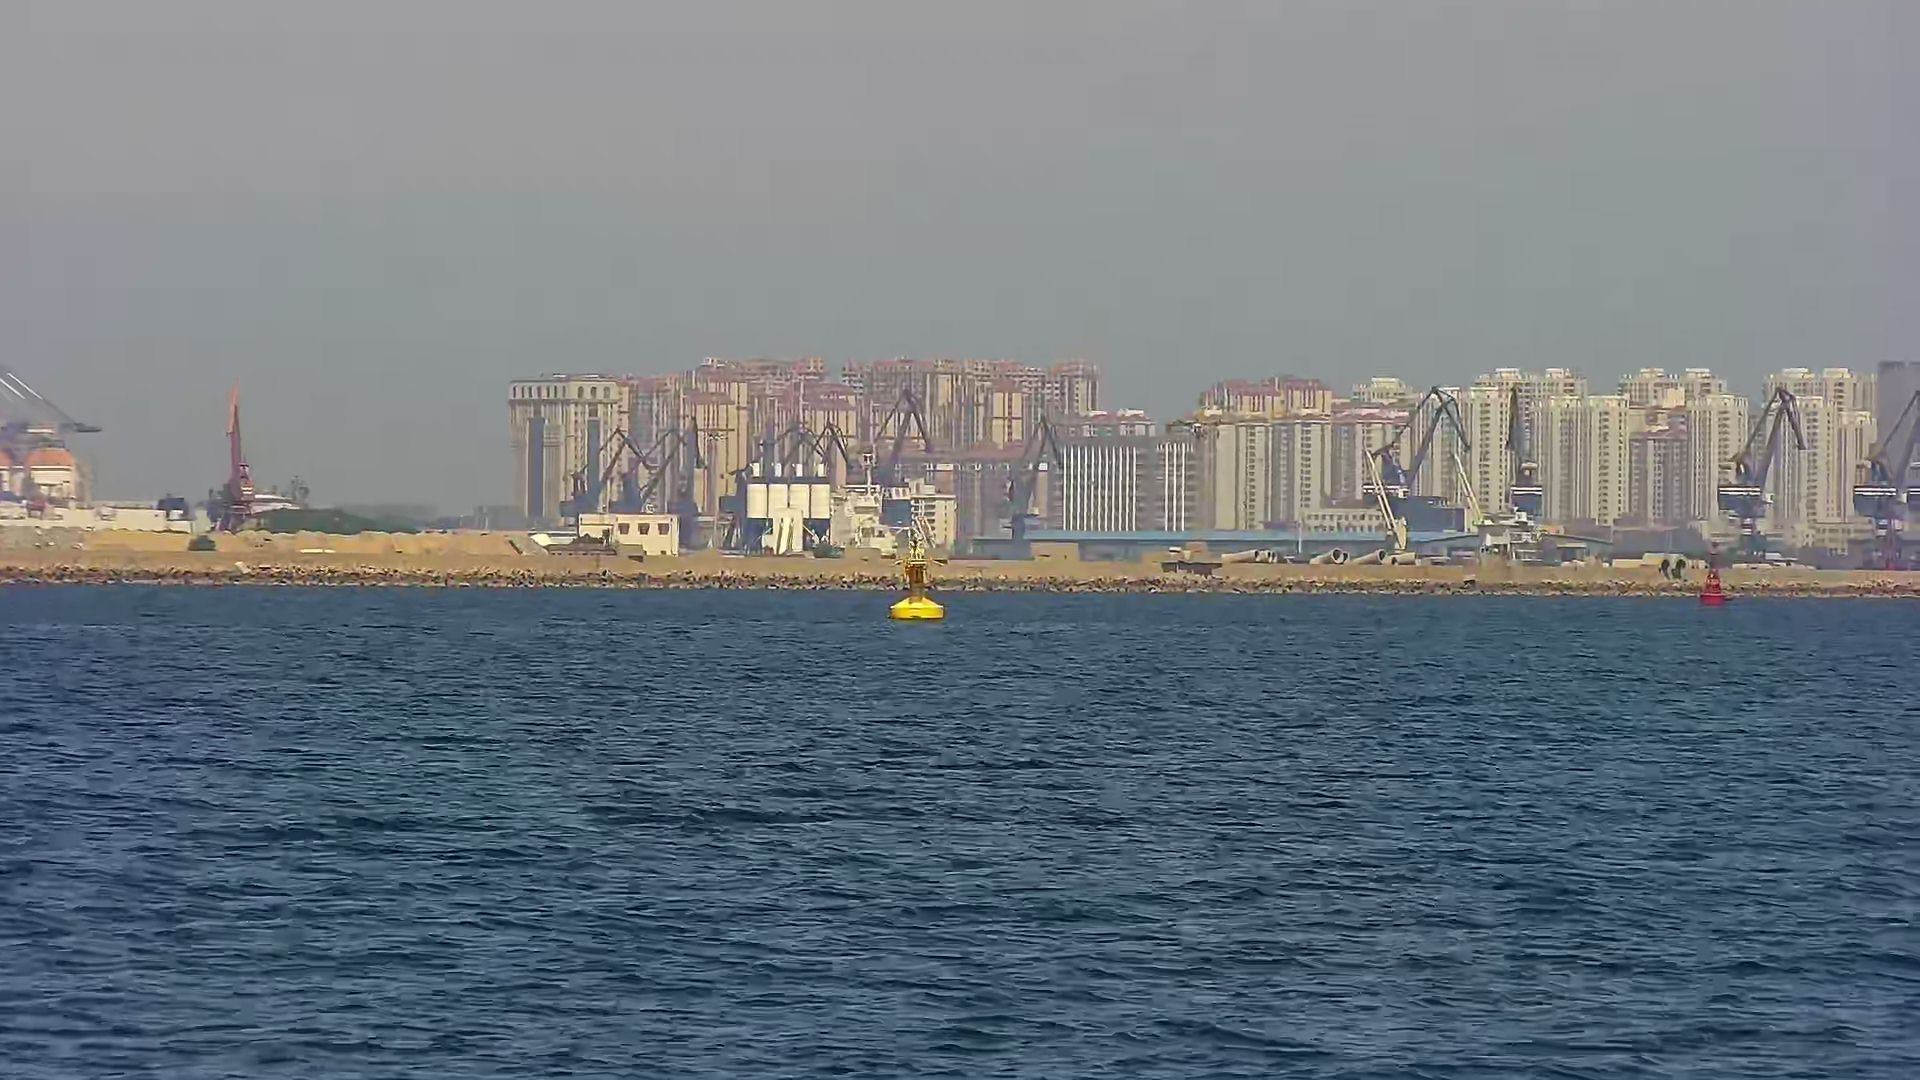buoy: (887, 560, 947, 622)
